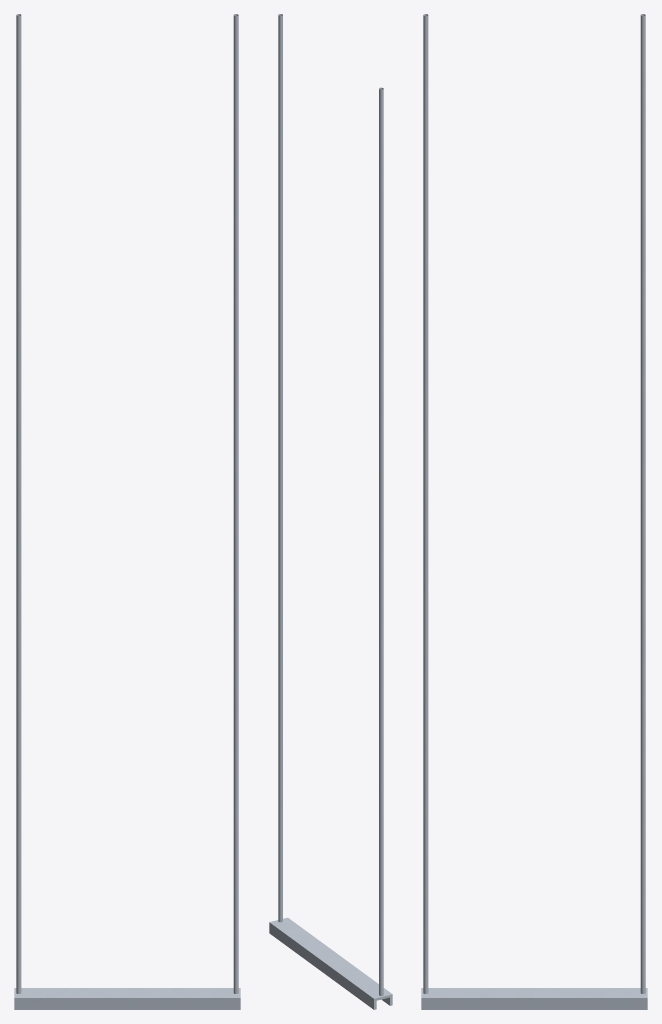
Rendered from SM05_Industrial_CableTray_01_Rod.fbx.
3 renders of one model, left to right at view 1: azimuth 90°, elevation 25°; view 2: azimuth 210°, elevation 25°; view 3: azimuth 270°, elevation 25°, orthographic. The views are drawn at different scales.
Parts seen in each view (by area): view 1: SM05_Industrial_CableTray_01_Rod_02, SM05_Industrial_CableTray_01_Rod_01; view 2: SM05_Industrial_CableTray_01_Rod_02, SM05_Industrial_CableTray_01_Rod_01; view 3: SM05_Industrial_CableTray_01_Rod_02, SM05_Industrial_CableTray_01_Rod_01.
Boxes of the visible parts, left/top/right/bottom form: SM05_Industrial_CableTray_01_Rod_02: left=16, top=14, right=238, bottom=993; SM05_Industrial_CableTray_01_Rod_01: left=14, top=988, right=240, bottom=1009; SM05_Industrial_CableTray_01_Rod_02: left=278, top=14, right=383, bottom=995; SM05_Industrial_CableTray_01_Rod_01: left=269, top=917, right=392, bottom=1009; SM05_Industrial_CableTray_01_Rod_02: left=423, top=14, right=645, bottom=993; SM05_Industrial_CableTray_01_Rod_01: left=421, top=988, right=647, bottom=1009.
Bounding box in the file's own units: 0.081 × 3.79 × 0.785.
